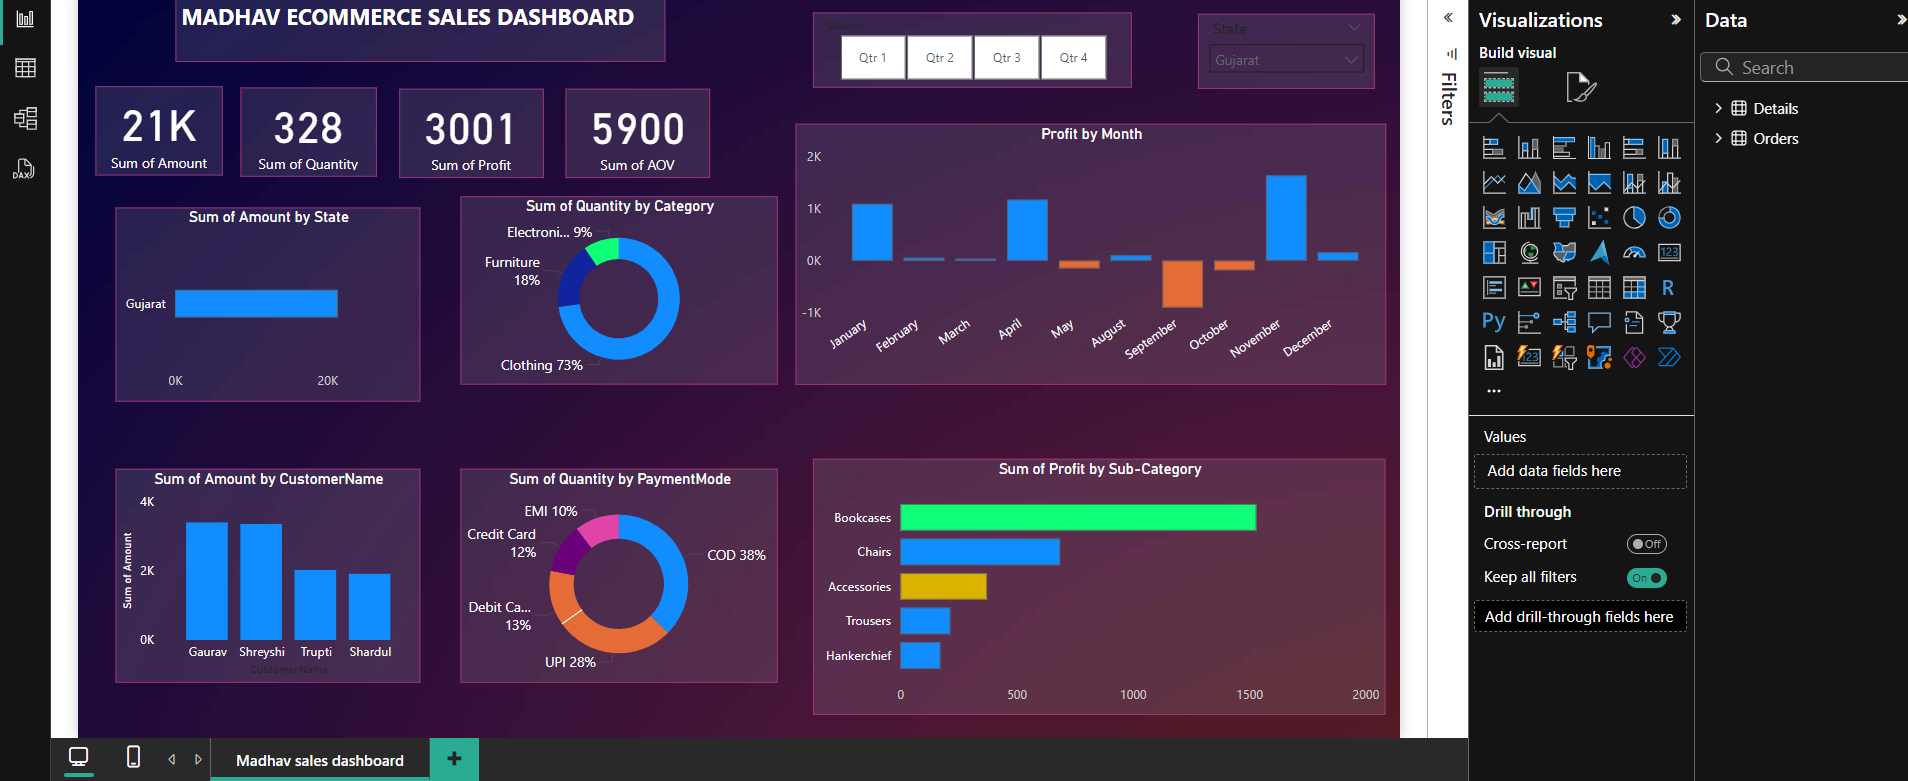

The dashboard page shown, as its layout file describes it:
{"tool":"powerbi","page":{"name":"Madhav sales dashboard","canvas":[1280,720],"ordinal":0},"visuals":[{"type":"textbox","box":[94.7,0,474.8,64.5],"z":0},{"type":"columnChart","title":"Profit by Month","fields":{"Y":["Sum(Details.Profit)"],"Category":["Orders.Order Date.Variation.Date Hierarchy.Month"]},"box":[694.3,124.9,572.2,252.5],"z":1000},{"type":"barChart","fields":{"Category":["Details.Sub-Category"],"Y":["Sum(Details.Profit)"]},"box":[711.8,449.1,554.4,248.2],"z":2000},{"type":"donutChart","fields":{"Category":["Details.Category"],"Y":["Sum(Details.Quantity)"]},"box":[370.5,194.9,307.4,182.5],"z":3000},{"type":"donutChart","fields":{"Y":["Sum(Details.Quantity)"],"Category":["Details.PaymentMode"]},"box":[370.4,458.8,307.5,207],"z":4000},{"type":"card","fields":{"Values":["Sum(Details.Amount)"]},"box":[16.5,87.8,123.5,86.4],"z":5000},{"type":"card","fields":{"Values":["Sum(Details.Quantity)"]},"box":[157.8,89.2,131.7,86.4],"z":6000},{"type":"card","fields":{"Values":["Sum(Details.Profit)"]},"box":[311.5,90.6,140,86.4],"z":7000},{"type":"card","fields":{"Values":["Sum(Details.AOV)"]},"box":[472,90.6,140,86.4],"z":8000},{"type":"barChart","fields":{"Category":["Orders.State"],"Y":["Sum(Details.Amount)"]},"box":[36.3,205.8,295.4,187.6],"z":9000},{"type":"columnChart","fields":{"Category":["Orders.CustomerName"],"Y":["Sum(Details.Amount)"]},"box":[36.3,458.8,295.4,207],"z":10000},{"type":"slicer","fields":{"Values":["Orders.Order Date.Variation.Date Hierarchy.Quarter"]},"box":[712.2,16.5,308.7,72.7],"z":11000},{"type":"slicer","fields":{"Values":["Orders.State"]},"box":[1084.1,17.8,171.5,72.7],"z":12000}]}

Visuals, with their boxes on the page's 1280x720 design canvas (x1, y1, x2, y2). These are canvas units, not pixel positions in the 1908x781 screenshot, which may show the page scaled, cropped or inside an application window:
textbox: bbox=[95, 0, 570, 64]
"Profit by Month" columnChart: bbox=[694, 125, 1266, 377]
barChart - Details.Sub-Category x Sum(Details.Profit): bbox=[712, 449, 1266, 697]
donutChart - Details.Category x Sum(Details.Quantity): bbox=[370, 195, 678, 377]
donutChart - Sum(Details.Quantity) x Details.PaymentMode: bbox=[370, 459, 678, 666]
card - Sum(Details.Amount): bbox=[16, 88, 140, 174]
card - Sum(Details.Quantity): bbox=[158, 89, 290, 176]
card - Sum(Details.Profit): bbox=[312, 91, 452, 177]
card - Sum(Details.AOV): bbox=[472, 91, 612, 177]
barChart - Orders.State x Sum(Details.Amount): bbox=[36, 206, 332, 393]
columnChart - Orders.CustomerName x Sum(Details.Amount): bbox=[36, 459, 332, 666]
slicer - Orders.Order Date.Variation.Date Hierarchy.Quarter: bbox=[712, 16, 1021, 89]
slicer - Orders.State: bbox=[1084, 18, 1256, 90]
